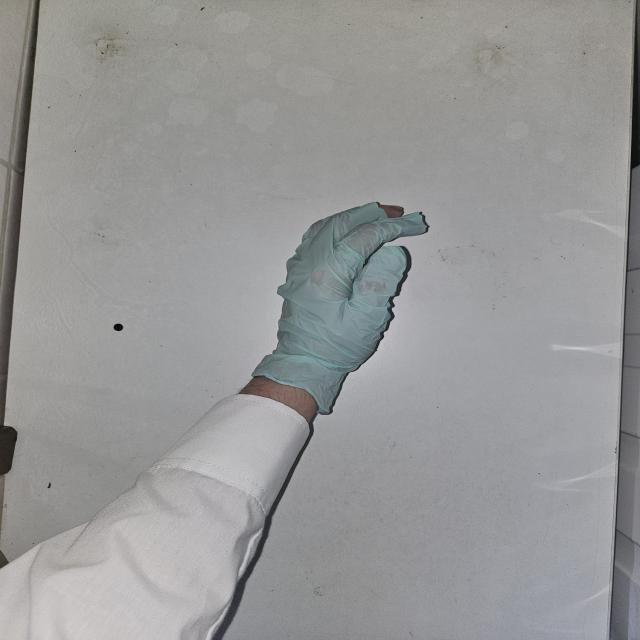gloves_damaged: (246, 202, 436, 417)
